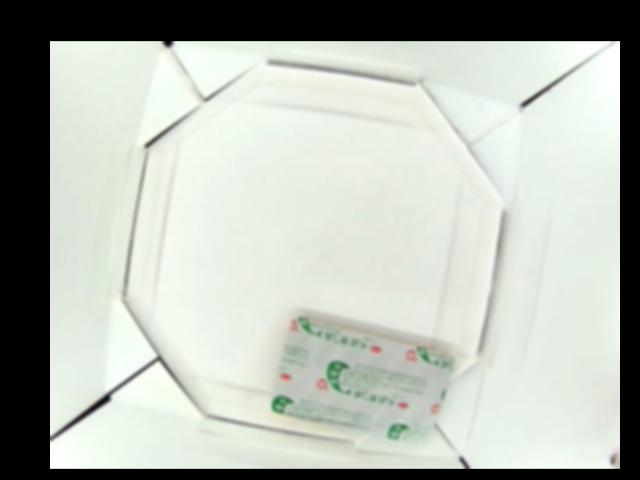Medicine: (267, 315, 453, 442)
